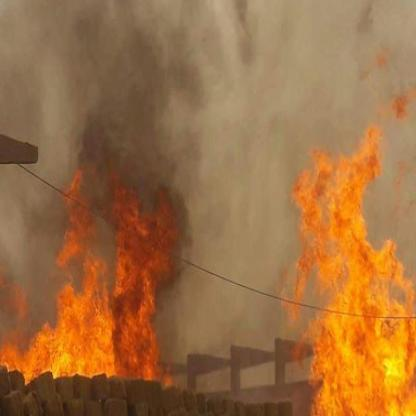fire: (0, 164, 188, 391), (287, 123, 416, 416)
